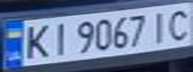0: (93, 16, 115, 52)
6: (112, 14, 133, 50)
7: (127, 11, 151, 47)
9: (72, 18, 96, 55)
C: (163, 6, 193, 42)
I: (145, 8, 172, 43), (48, 19, 72, 56)
K: (18, 20, 54, 61)
